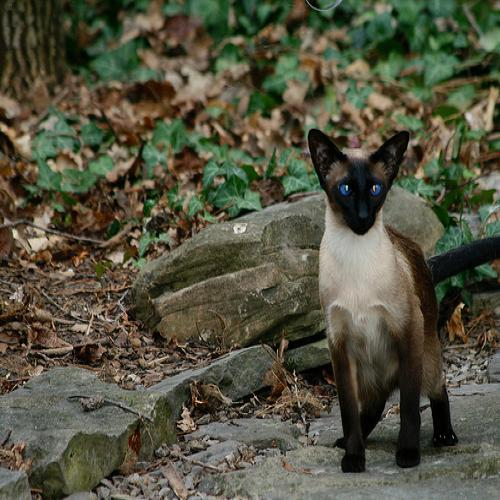siamese: (295, 114, 414, 250)
